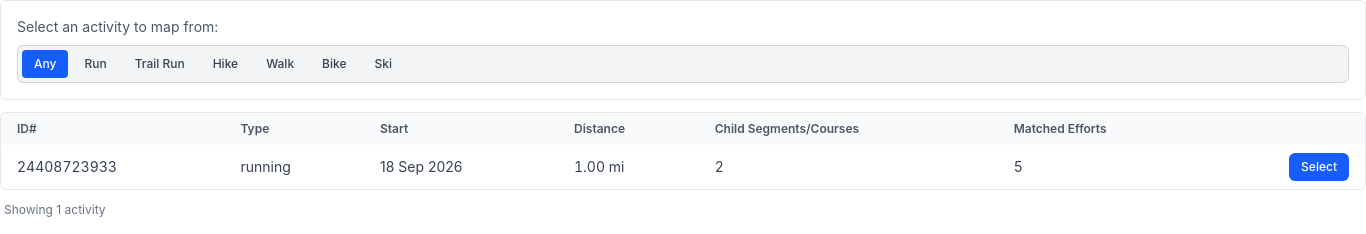
ActivitySourceList › sends the activity-type filter to the server and resets paging
The image size is (1366, 234).
Expected: the text "running" is shown, [224,145,364,189]
Click the button "Trail Run" at (160, 64), box [123,50,197,78]
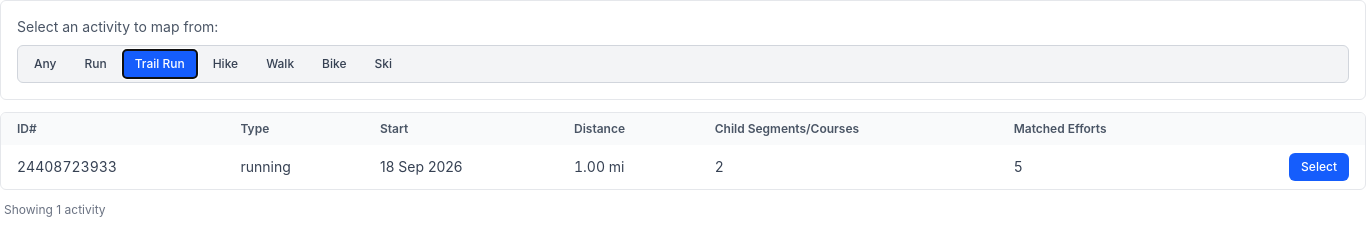
Result: the button "Trail Run" is pressed at [123,50,197,78]
